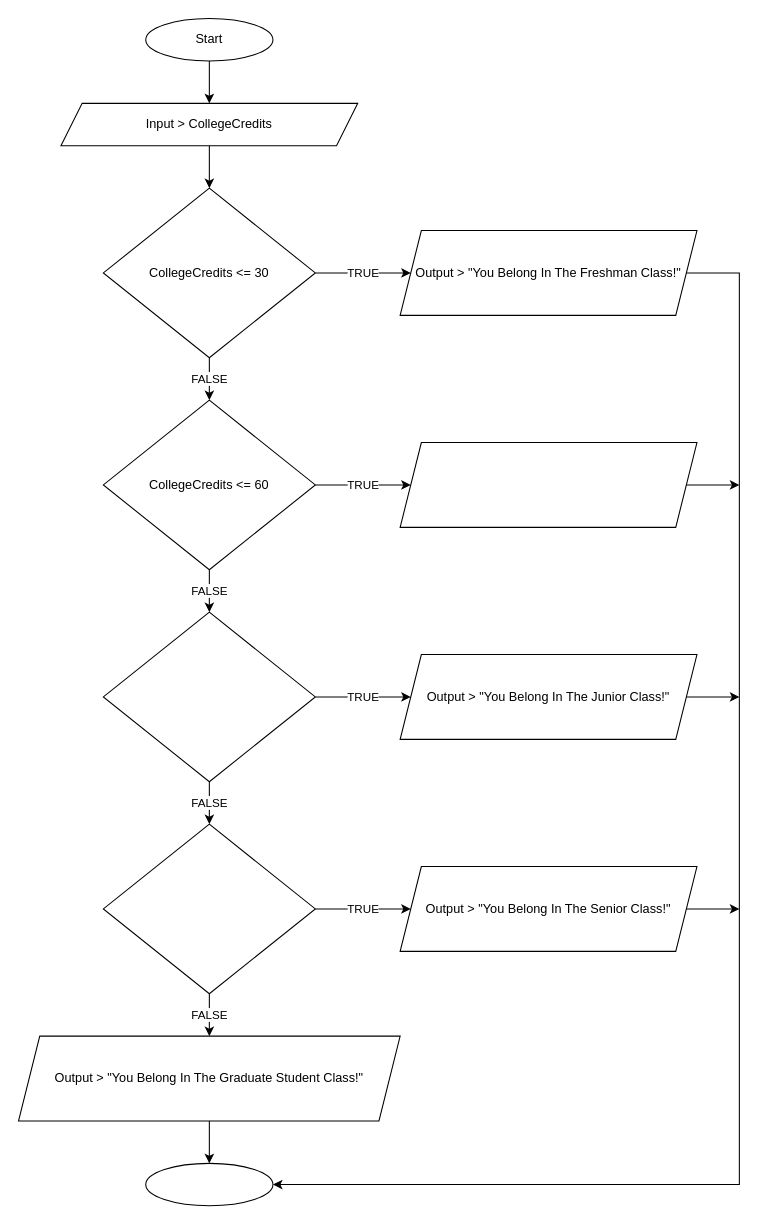
This 766x1224 diagram has some shape labels left out. Each missing label, with the box of its shape:
CollegeCredits <= 90: (102, 611, 315, 782)
CollegeCredits <=124: (102, 823, 315, 994)
End: (145, 1162, 273, 1206)
Output > "You Belong In The Sophomore Class!": (399, 441, 697, 527)
